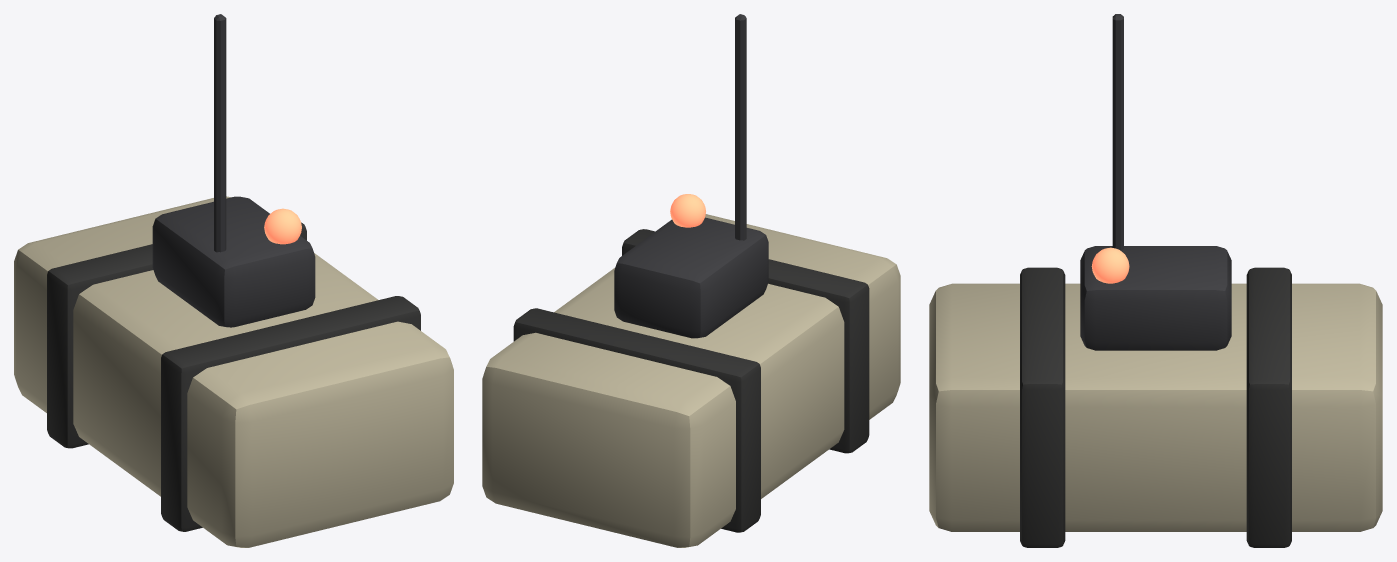
The model's file is cbomb.glb.
3 views of the same model, side by side, from view 1: azimuth 30°, elevation 25°; view 2: azimuth 150°, elevation 25°; view 3: azimuth 270°, elevation 25° (orthographic). The views are drawn at different scales.
Visible parts, largest first — view 1: Body; view 2: Body; view 3: Body.
Boxes of the visible parts, bbox=[...] form: Body: bbox=[14, 14, 453, 547]; Body: bbox=[482, 14, 900, 547]; Body: bbox=[929, 14, 1382, 547].
Bounding box in the file's own units: 0.074 × 0.1345 × 0.12.
